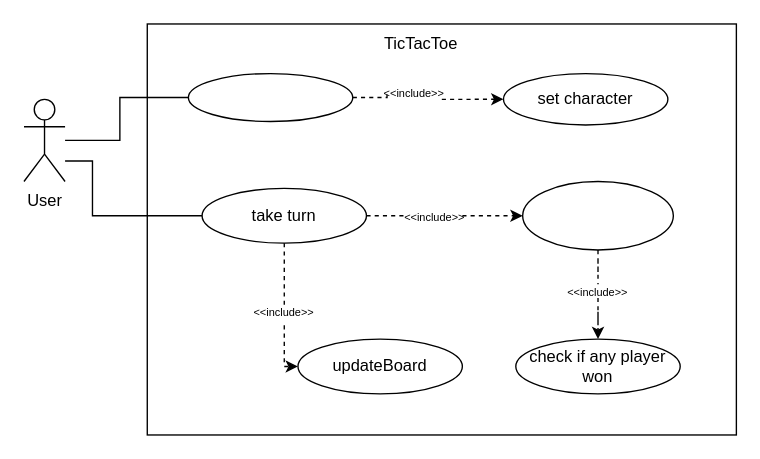
Image size: 760x459. Some labels were removed from this diagram. The centre of each missing label's shape, as x and y in pixels:
"checkGameStatus" goes at point (597, 215).
"choose character" goes at point (270, 97).
